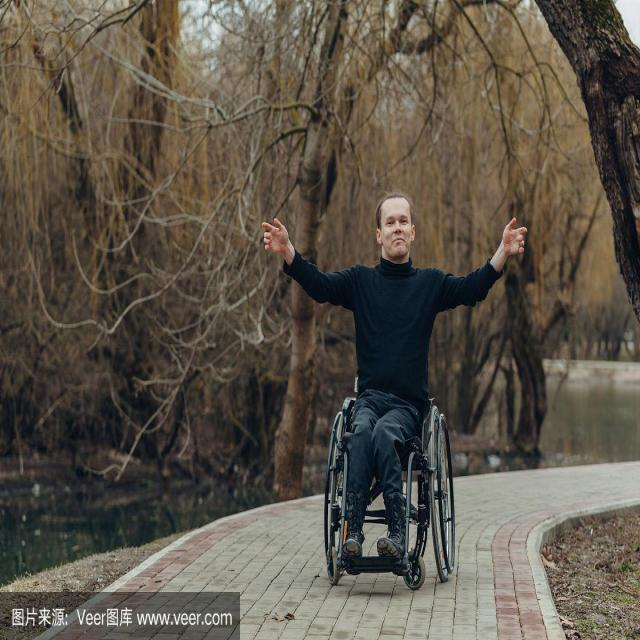wheelchairs: (313, 361, 463, 598)
